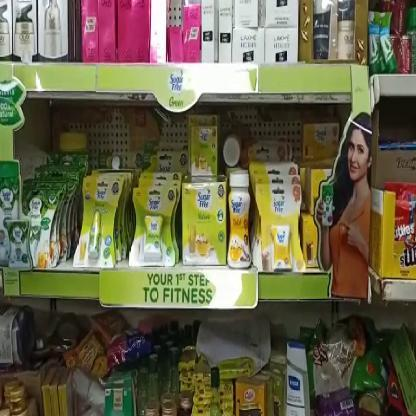SUGAR FREE GOLD 500 PELLET: (248, 184, 292, 260)
SUGAR FREE GOLD POWDER 100GM: (225, 171, 246, 259)
SUGAR FREE GRN 300 PELLET: (22, 184, 56, 260)
SUGAR FREE NATURA 500 PELLET: (142, 188, 184, 259)
SUGAR FREE NATURA SACHET 50: (187, 185, 224, 256)
SUGAR FREE NATURA SWEET DROPS: (94, 177, 138, 259)
